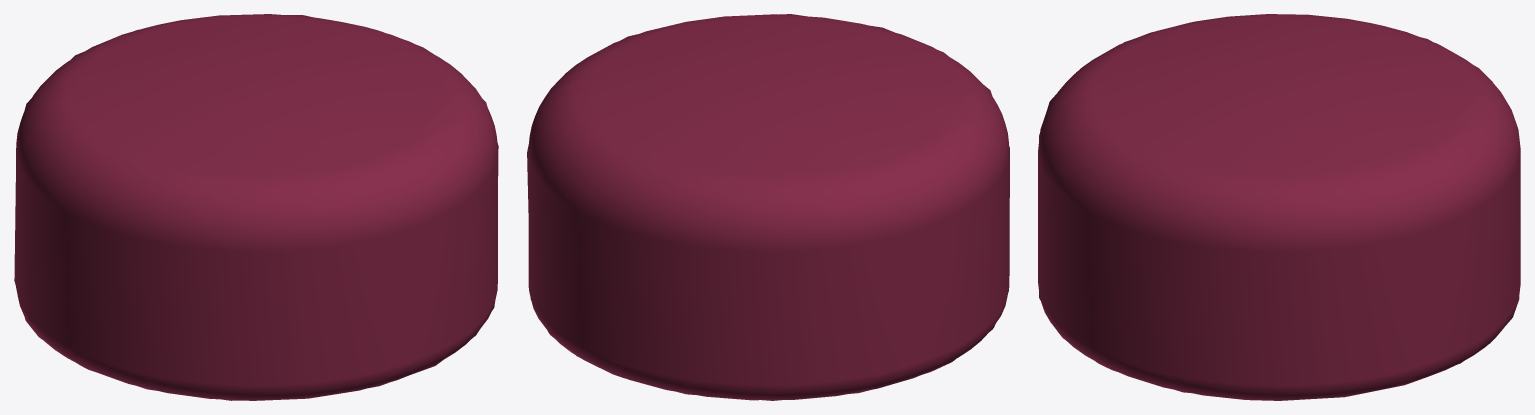
Rendered from layer-velvet.glb.
The picture shows the model from 3 angles, left to right: view 1: azimuth 30°, elevation 25°; view 2: azimuth 150°, elevation 25°; view 3: azimuth 270°, elevation 25°; orthographic projection.
Parts seen in each view (by area): view 1: velvet (×2); view 2: velvet (×2); view 3: velvet (×2).
Boxes of the visible parts, left/top/right/bottom form: velvet (×2): left=14, top=14, right=498, bottom=400; velvet (×2): left=527, top=14, right=1009, bottom=400; velvet (×2): left=1038, top=14, right=1520, bottom=400.
Bounding box in the file's own units: 0.9002 × 0.4605 × 0.9002.
